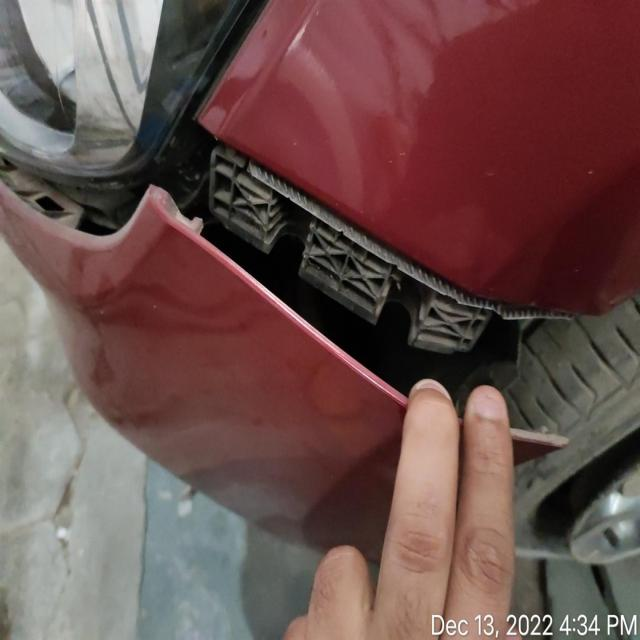damage: (192, 140, 394, 329), (350, 252, 507, 410)
